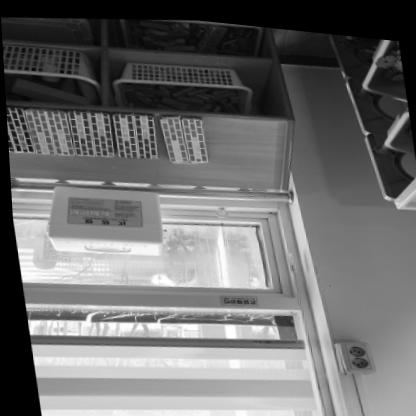DDL: (41, 176, 167, 262)
